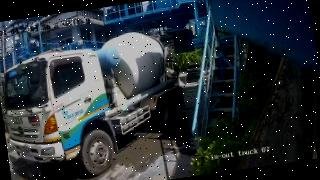cement_mixer_truck: (0, 32, 183, 175)
